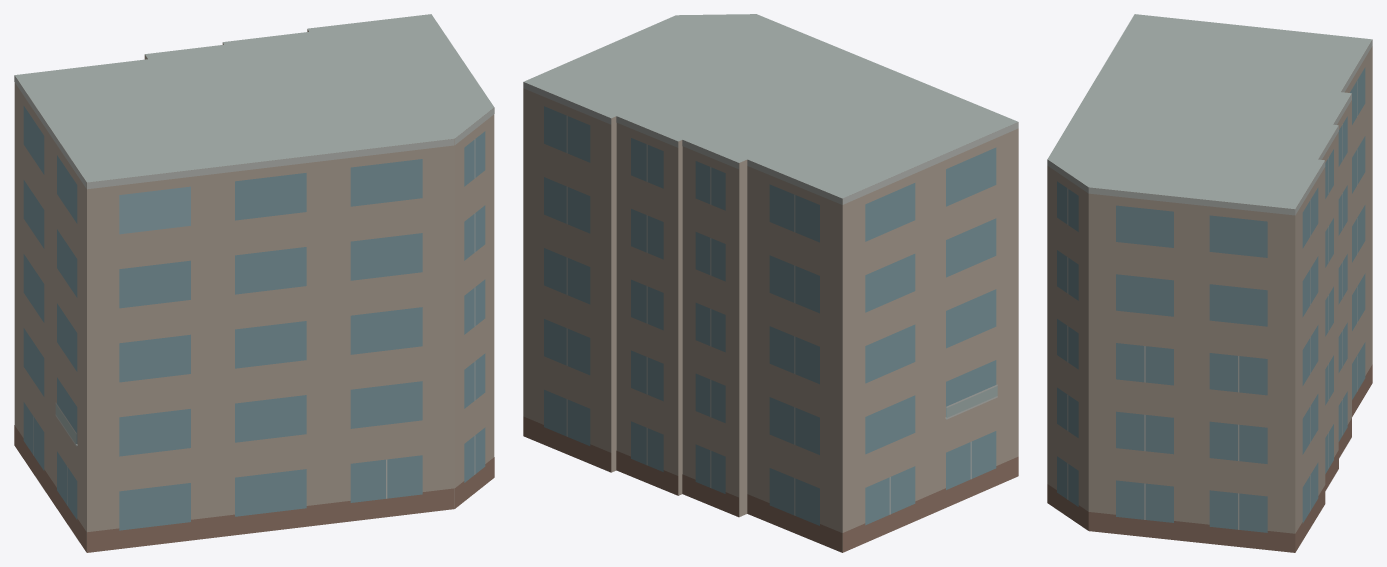
File: survey-upis-32762010.glb
3 views of the same model, side by side, from view 1: azimuth 30°, elevation 25°; view 2: azimuth 150°, elevation 25°; view 3: azimuth 270°, elevation 25° (orthographic). The views are drawn at different scales.
Visible parts, largest first — view 1: survey-upis-32762010.tmp; view 2: survey-upis-32762010.tmp; view 3: survey-upis-32762010.tmp.
Boxes of the visible parts, x1,y1,x2,y2 form: survey-upis-32762010.tmp: [14, 14, 494, 552]; survey-upis-32762010.tmp: [523, 14, 1018, 552]; survey-upis-32762010.tmp: [1047, 14, 1372, 552].
Bounding box in the file's own units: 16.34 × 13.4 × 11.5.
